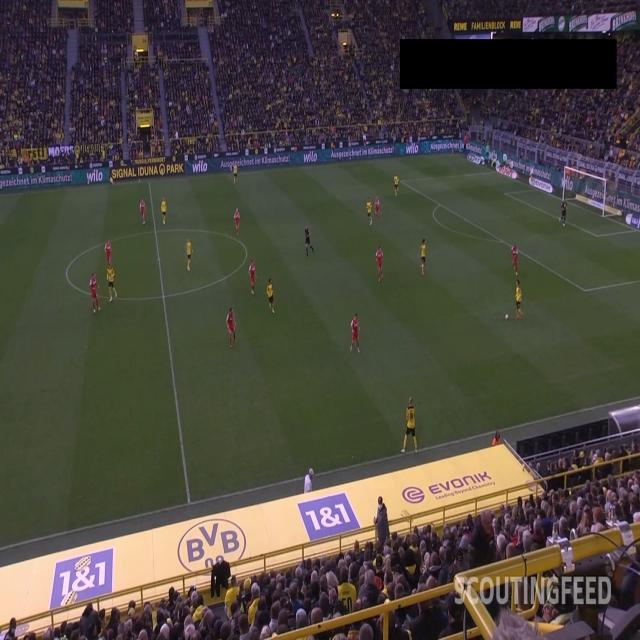ball: (504, 308, 512, 326)
f_player: (402, 398, 419, 455), (225, 306, 239, 350), (87, 271, 101, 312), (513, 278, 525, 320), (107, 263, 119, 303), (104, 234, 116, 271), (351, 312, 362, 352), (266, 276, 277, 315), (418, 239, 428, 277), (375, 248, 385, 284), (186, 239, 195, 273), (248, 260, 256, 292), (372, 196, 381, 223), (366, 197, 374, 226), (512, 246, 520, 274), (160, 197, 168, 224), (139, 199, 147, 224), (234, 209, 241, 237), (560, 202, 568, 226), (394, 176, 402, 198), (232, 162, 240, 184)
umpire: (303, 225, 314, 256)
